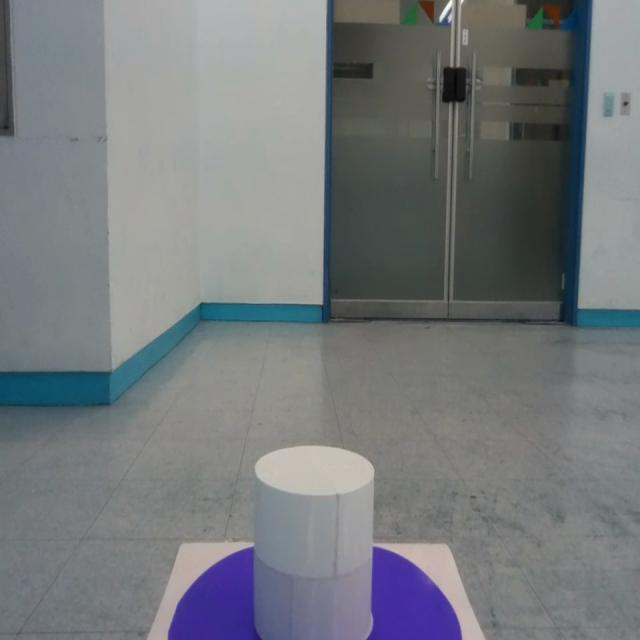cylinder: (252, 444, 376, 638)
